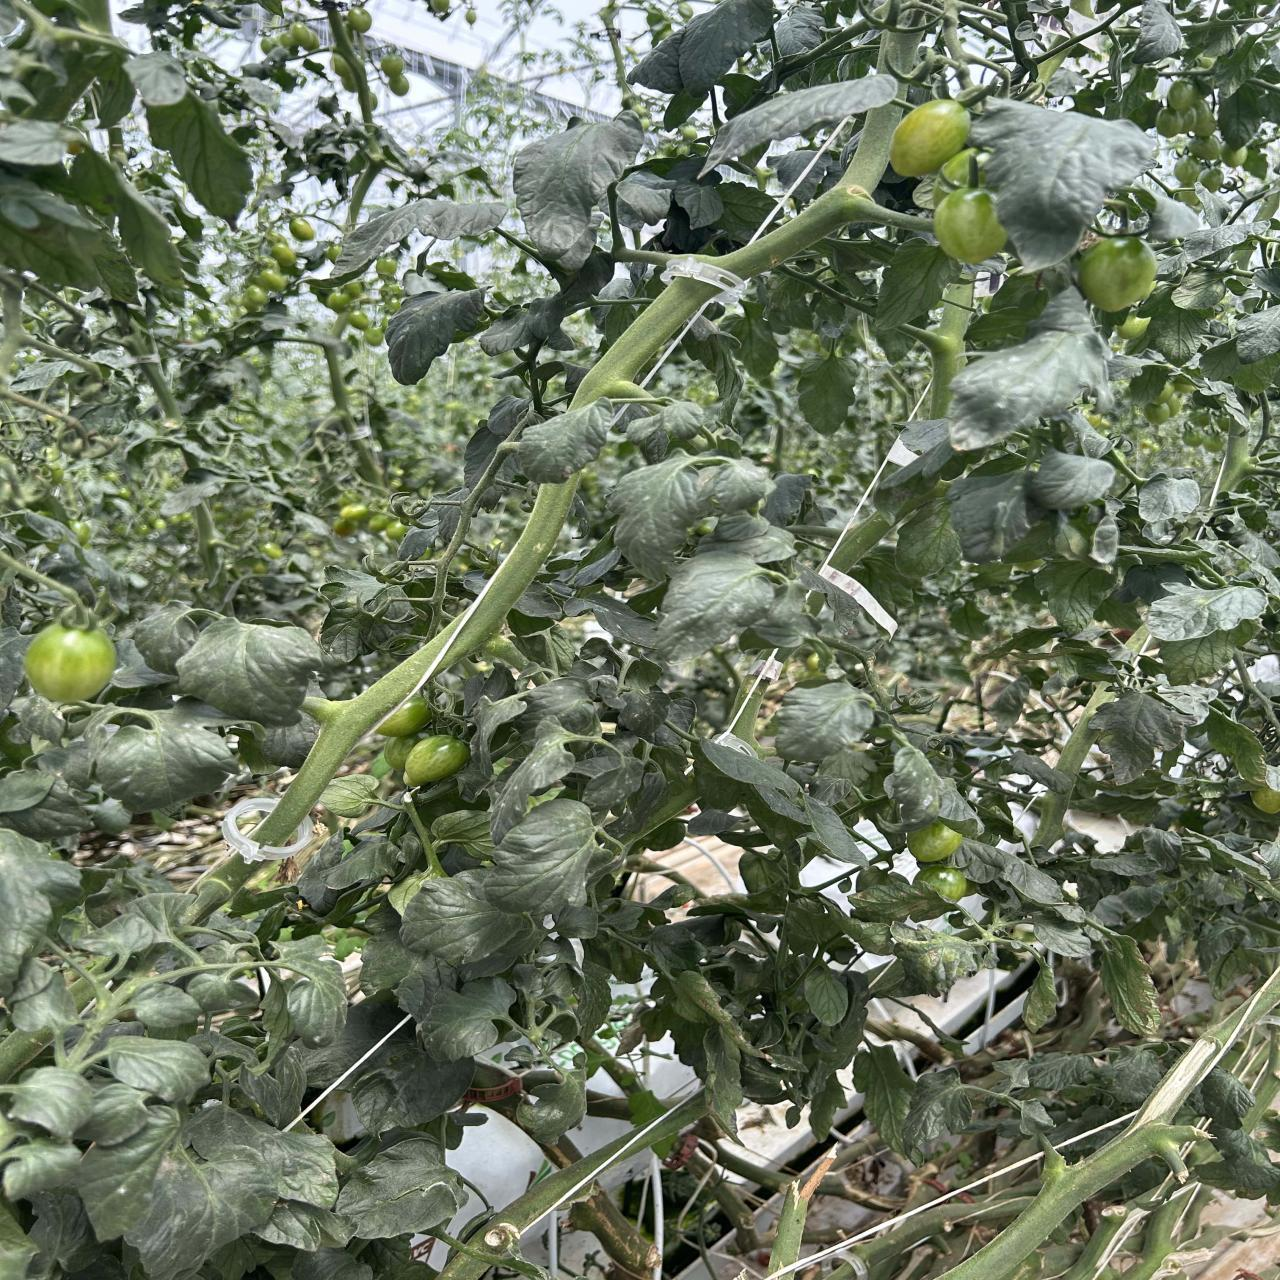Rugose leaf: (891, 912, 982, 996), (1098, 937, 1162, 1035), (915, 866, 966, 898)
Rugose tomato: (23, 624, 116, 703), (25, 625, 116, 703), (404, 736, 469, 788), (376, 695, 430, 737), (384, 734, 420, 772)
